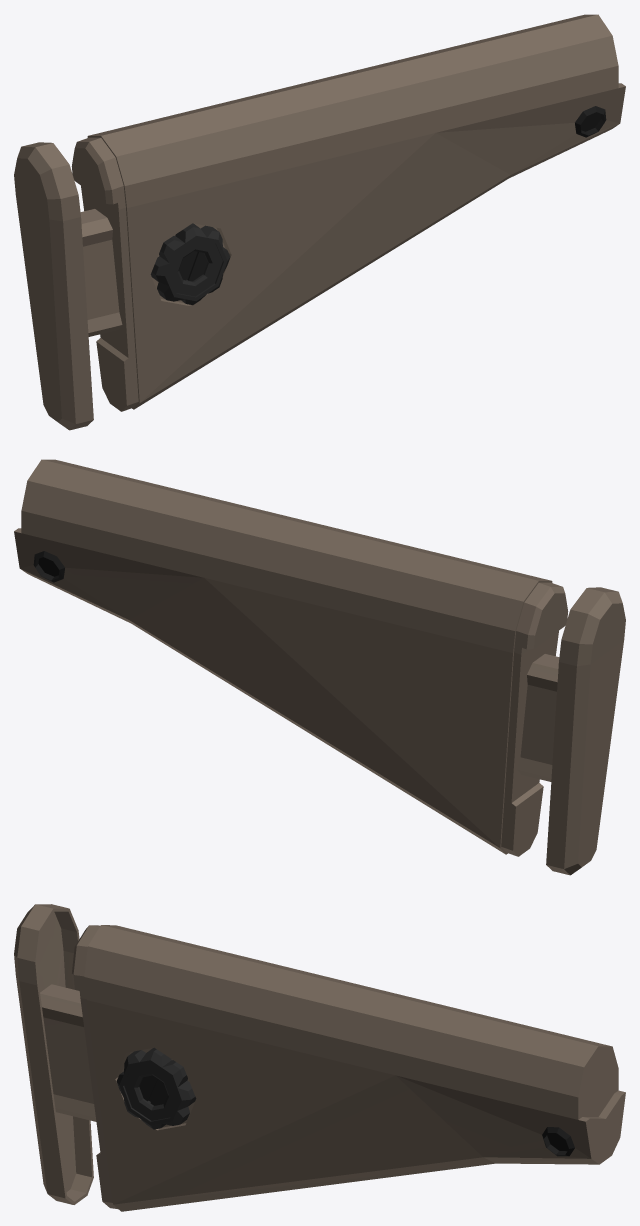
File: m110_sass_stock.glb
The picture shows the model from 3 angles, top to bottom: view 1: azimuth 30°, elevation 25°; view 2: azimuth 150°, elevation 25°; view 3: azimuth 330°, elevation 25°; orthographic projection.
Visible parts, largest first — view 1: m110 stock_18 (×3), m110 stock butt_19; view 2: m110 stock_18 (×2), m110 stock butt_19; view 3: m110 stock_18 (×3), m110 stock butt_19.
Part boxes in pixels (box(x1,y1,x2,y2)): m110 stock_18 (×3): box(71, 14, 625, 411); m110 stock butt_19: box(14, 142, 122, 430); m110 stock_18 (×2): box(14, 459, 568, 856); m110 stock butt_19: box(517, 587, 625, 875); m110 stock_18 (×3): box(71, 925, 625, 1211); m110 stock butt_19: box(14, 904, 96, 1204).
Bounding box in the file's own units: 2.8 × 1.32 × 0.376.
